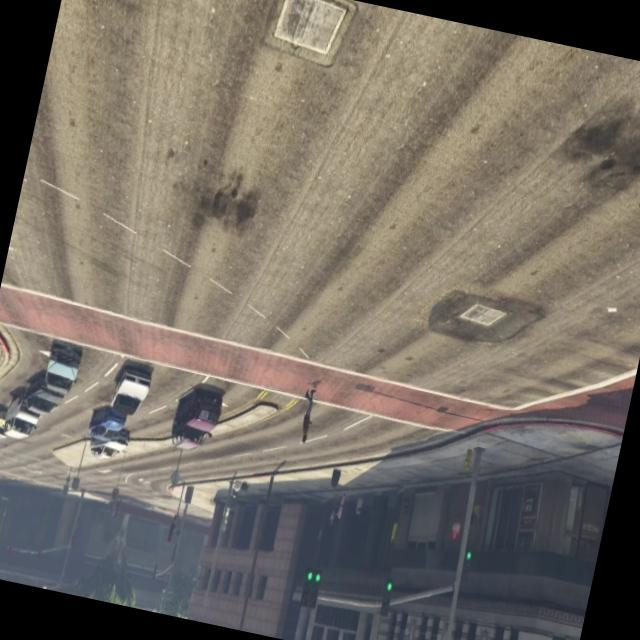Green-Signal: (292, 548, 338, 620), (372, 560, 404, 628), (452, 532, 482, 601)
